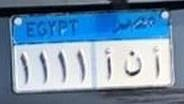1: (38, 50, 51, 84), (19, 52, 32, 85), (76, 49, 88, 83), (57, 50, 69, 84)
alif: (103, 45, 117, 85), (151, 43, 162, 81)
noon: (122, 46, 142, 79)
